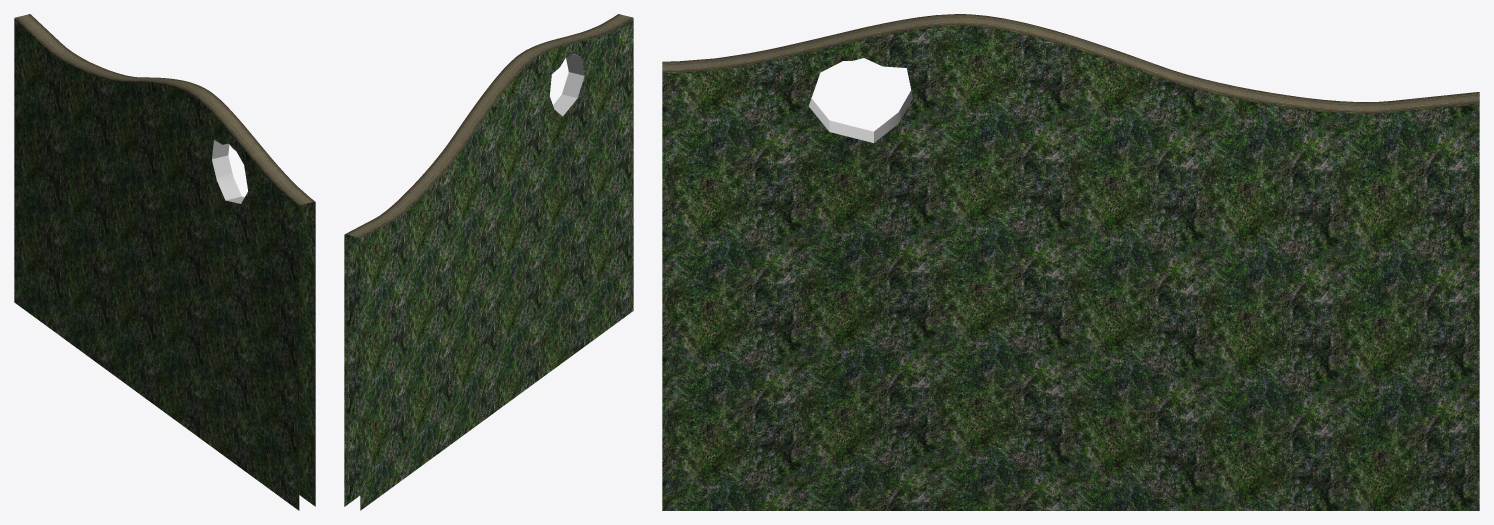
File: Bonus Level ramp.fbx
3 views of the same model, side by side, from view 1: azimuth 30°, elevation 25°; view 2: azimuth 150°, elevation 25°; view 3: azimuth 270°, elevation 25° (orthographic). The views are drawn at different scales.
Parts seen in each view (by area): view 1: Bonus level 10 ramp; view 2: Bonus level 10 ramp; view 3: Bonus level 10 ramp.
Boxes of the visible parts, left/top/right/bottom form: Bonus level 10 ramp: left=14, top=14, right=315, bottom=510; Bonus level 10 ramp: left=344, top=14, right=633, bottom=510; Bonus level 10 ramp: left=662, top=14, right=1479, bottom=510.
Size of the model in its own units: 410 by 8050 by 12270.
